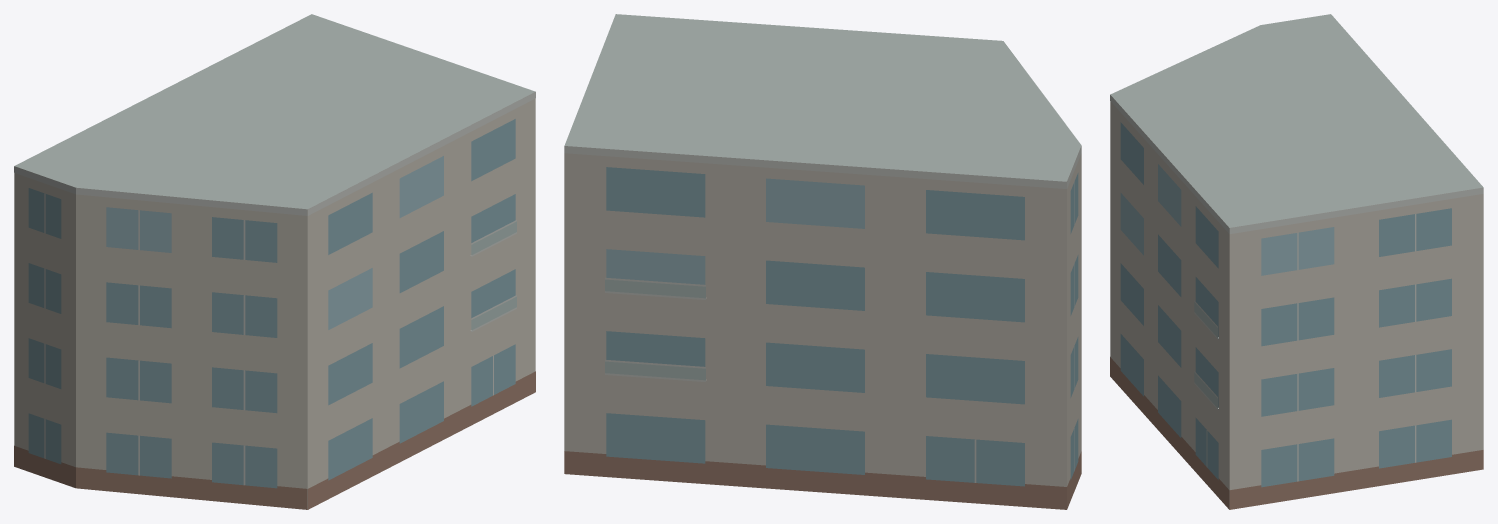
Rendered from survey-upis-32829721.glb.
3 views of the same model, side by side, from view 1: azimuth 30°, elevation 25°; view 2: azimuth 150°, elevation 25°; view 3: azimuth 270°, elevation 25° (orthographic). The views are drawn at different scales.
Parts seen in each view (by area): view 1: survey-upis-32829721.tmp; view 2: survey-upis-32829721.tmp; view 3: survey-upis-32829721.tmp.
Part boxes in pixels (<box>): survey-upis-32829721.tmp: <box>14,14,535,509</box>; survey-upis-32829721.tmp: <box>564,14,1081,509</box>; survey-upis-32829721.tmp: <box>1110,14,1483,509</box>.
Size of the model in its own units: 17.75 by 10.9 by 13.1.
